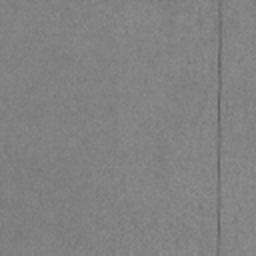Scratches: (217, 9, 223, 193), (217, 196, 222, 246)
